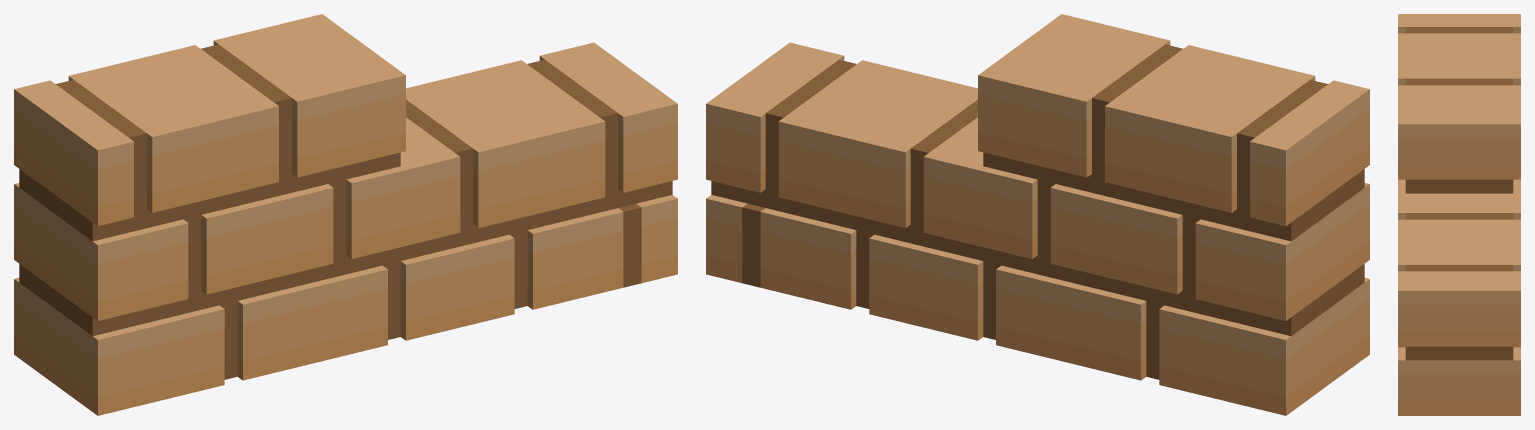
Rendered from DesertBrickWall_3Tall_Broken.fbx.
3 renders of one model, left to right at view 1: azimuth 30°, elevation 25°; view 2: azimuth 150°, elevation 25°; view 3: azimuth 270°, elevation 25°, orthographic. The views are drawn at different scales.
Visible parts, largest first — view 1: generated; view 2: generated; view 3: generated.
Boxes of the visible parts, x1,y1,x2,y2 form: generated: (14, 14, 677, 415); generated: (706, 14, 1369, 415); generated: (1398, 14, 1520, 415).
Bounding box in the file's own units: 320 × 140 × 80.
